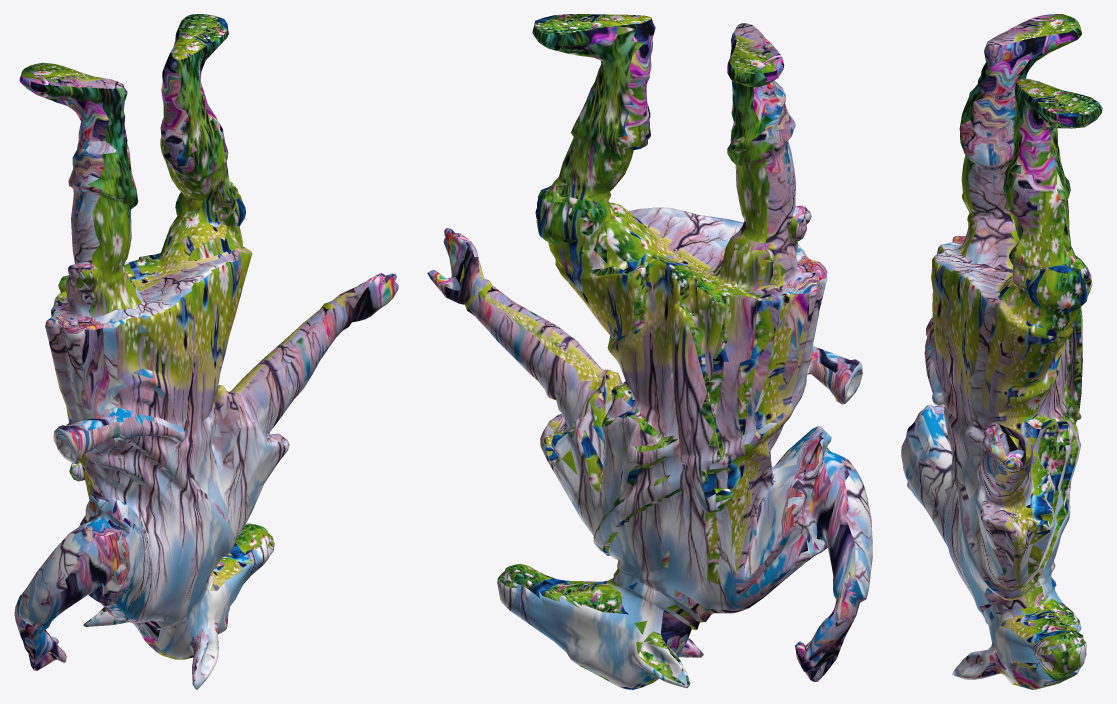
The model's file is tds_actaeon.glb.
3 views of the same model, side by side, from view 1: azimuth 30°, elevation 25°; view 2: azimuth 150°, elevation 25°; view 3: azimuth 270°, elevation 25° (orthographic). The views are drawn at different scales.
Parts seen in each view (by area): view 1: A; view 2: A; view 3: A.
Part boxes in pixels (x1=…): A: x1=14, y1=14, x2=398, y2=689; A: x1=427, y1=14, x2=872, y2=689; A: x1=901, y1=14, x2=1102, y2=689.
Bounding box in the file's own units: 1.32 × 2 × 0.6035.
Materials: 1 (1 with a texture image).
